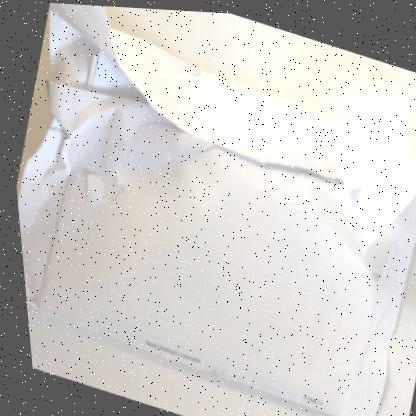Paper: (13, 2, 416, 416)
